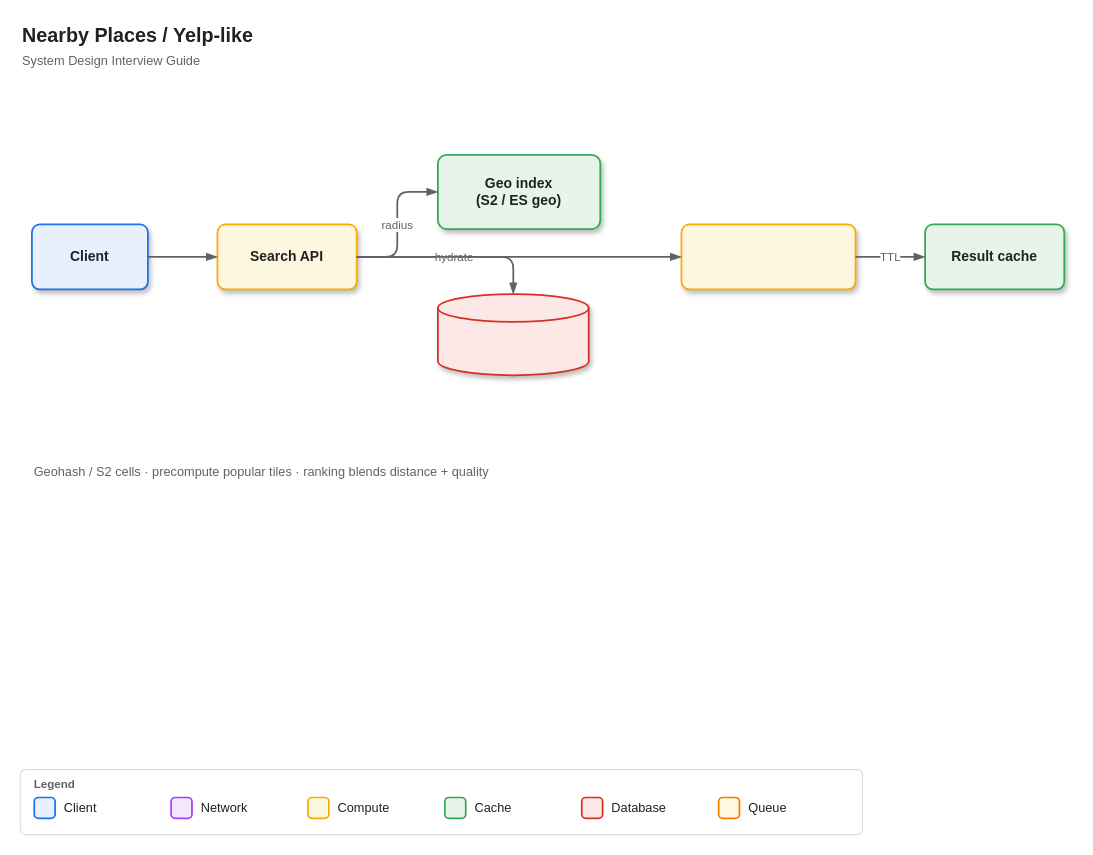
The diagram is 1093 pixels wide and 855 high, and some of its shapes have lost their labels. Here are the shapes that lost their labels. From the top down, the centre of each, then its label:
At point (769, 258): "Ranker distance + rating".
At point (514, 336): "Business DB".
